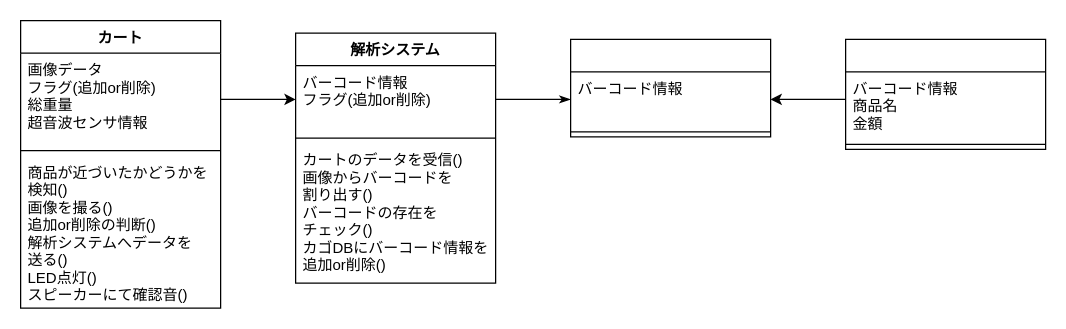
Image size: 1066x329. Some labels were removed from this diagram. Each missing label, with the box of its shape:
カゴDB: (569, 38, 771, 137)
商品DB: (844, 38, 1046, 149)
